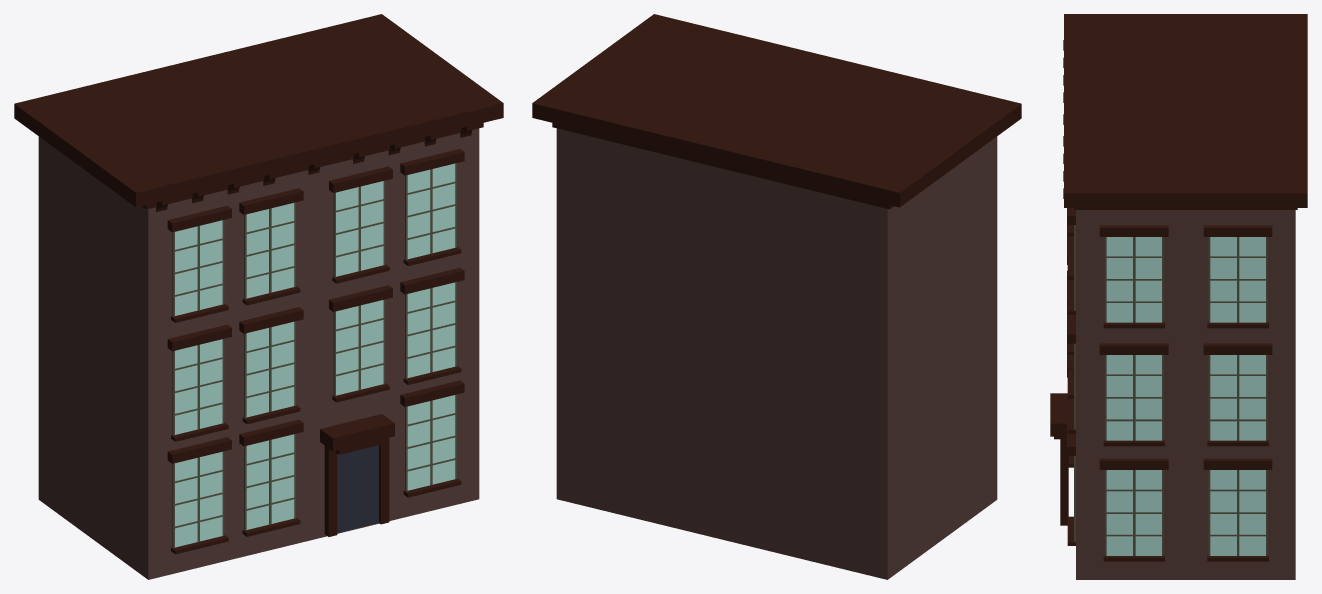
File: Building 1.fbx
The picture shows the model from 3 angles, left to right: view 1: azimuth 30°, elevation 25°; view 2: azimuth 150°, elevation 25°; view 3: azimuth 270°, elevation 25°; orthographic projection.
Visible parts, largest first — view 1: Cube.024; view 2: Cube.024; view 3: Cube.024.
Part boxes in pixels (<box>): Cube.024: <box>14,14,503,579</box>; Cube.024: <box>532,14,1021,579</box>; Cube.024: <box>1050,14,1307,579</box>.
Size of the model in its own units: 4108 by 4228 by 2492.
